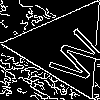W: (39, 23, 100, 87)
